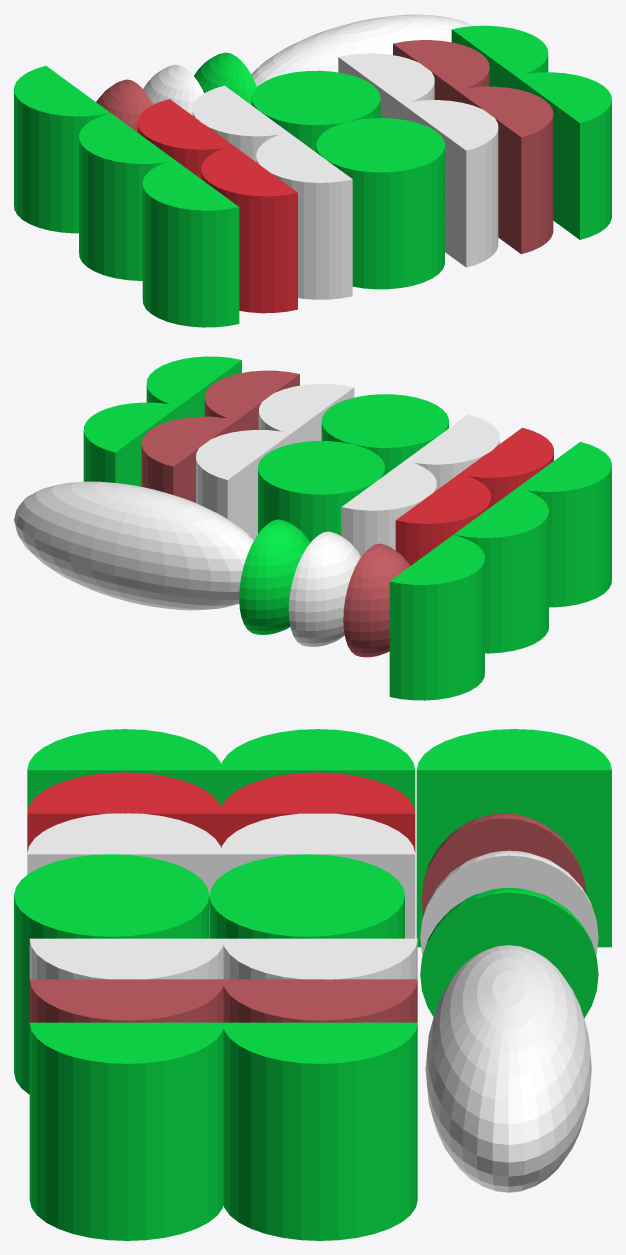
The model's file is irregularidad.fbx.
The picture shows the model from 3 angles, top to bottom: view 1: azimuth 30°, elevation 25°; view 2: azimuth 150°, elevation 25°; view 3: azimuth 270°, elevation 25°; orthographic projection. The views are drawn at different scales.
Parts seen in each view (by area): view 1: Sphere.003; view 2: Sphere.003; view 3: Sphere.003.
Part boxes in pixels (x1,y1,x2,y2): Sphere.003: [14, 14, 611, 327]; Sphere.003: [14, 356, 611, 700]; Sphere.003: [14, 729, 611, 1240].
Bounding box in the file's own units: 418 × 100 × 306.
